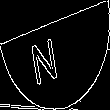N_N: (39, 25, 71, 85)
